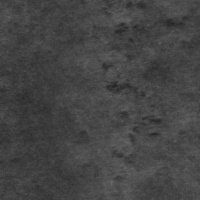rolled-in_scale: (97, 16, 169, 165)
